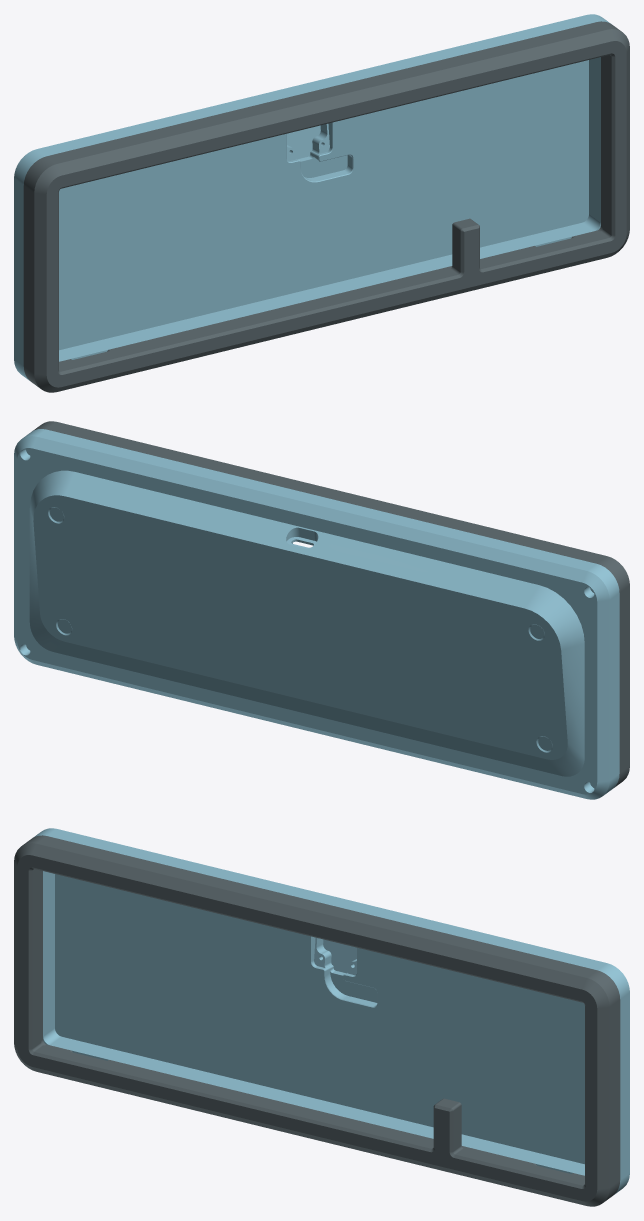
The model's file is MB-44_combined.fbx.
3 views of the same model, one above another, from view 1: azimuth 30°, elevation 25°; view 2: azimuth 150°, elevation 25°; view 3: azimuth 330°, elevation 25° (orthographic).
Parts seen in each view (by area): view 1: Body1 (×2); view 2: Body1 (×2); view 3: Body1 (×2).
Boxes of the visible parts, box(x1,y1,x2,y2) form: Body1 (×2): box(14, 14, 629, 392); Body1 (×2): box(14, 421, 629, 799); Body1 (×2): box(14, 828, 629, 1206).
Bounding box in the file's own units: 263 × 96.2 × 31.95.
